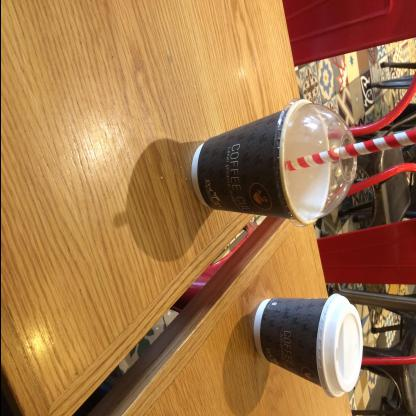kagit: (188, 106, 288, 218)
karton: (189, 100, 329, 226), (252, 294, 334, 386)
plastik: (272, 102, 410, 226), (314, 296, 362, 398)
